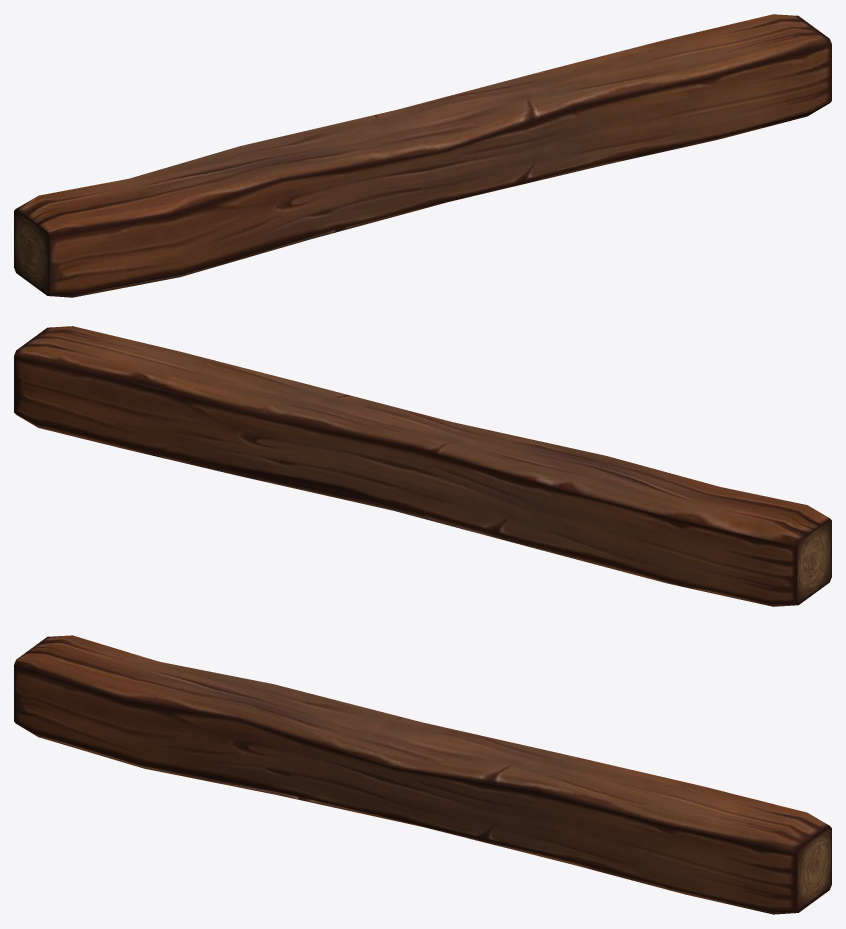
File: MediumBeam.fbx
3 renders of one model, top to bottom at view 1: azimuth 30°, elevation 25°; view 2: azimuth 150°, elevation 25°; view 3: azimuth 330°, elevation 25°, orthographic.
Parts seen in each view (by area): view 1: polySurface4; view 2: polySurface4; view 3: polySurface4.
Part boxes in pixels (x1,y1,x2,y2): polySurface4: (14,14,831,297); polySurface4: (14,326,831,606); polySurface4: (14,635,831,914).
Size of the model in its own units: 10.64 by 1.1 by 1.13.
